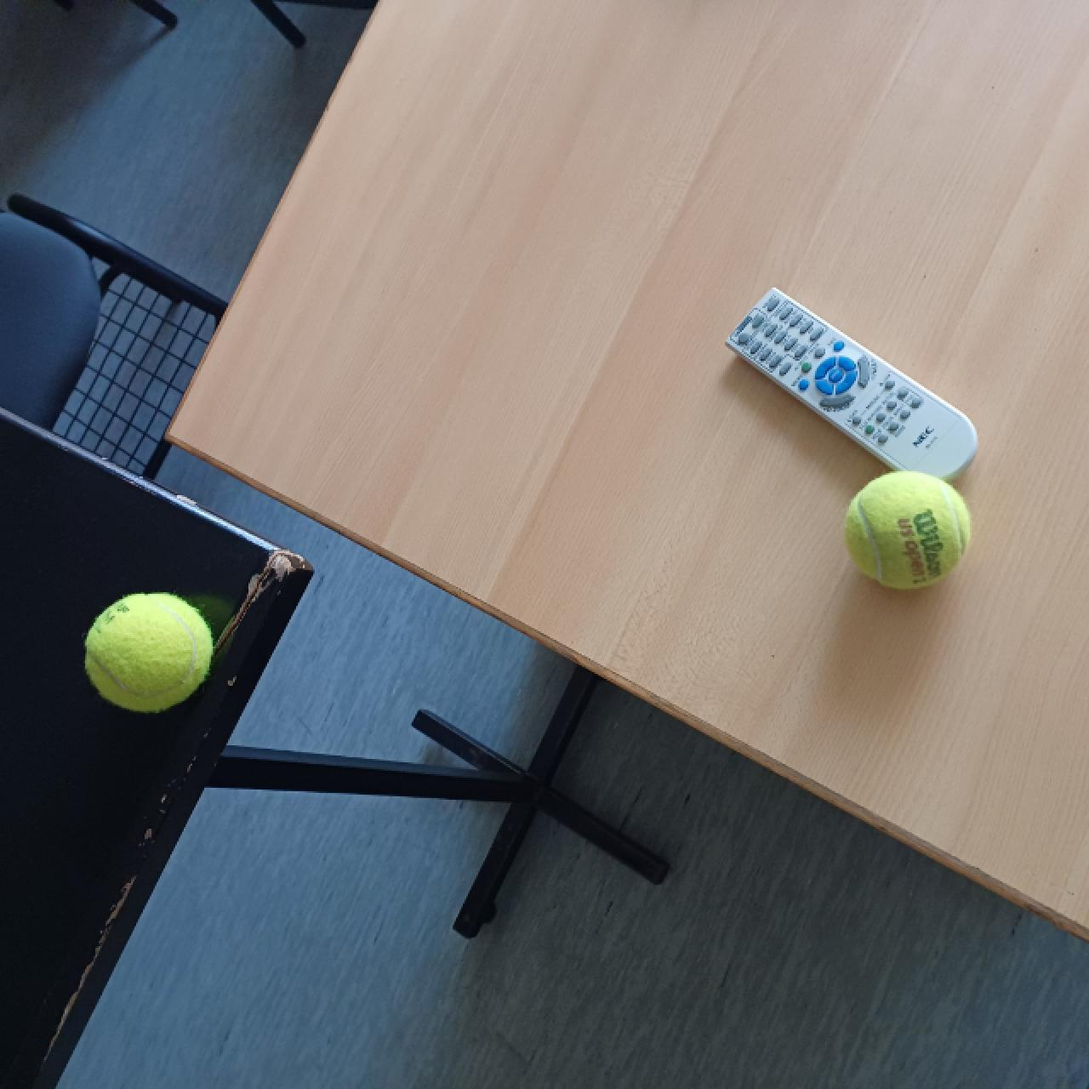tennis-ball: (85, 588, 214, 715), (843, 469, 973, 591)
